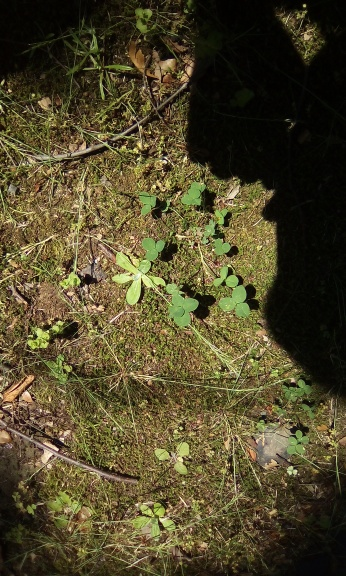4leaf: (167, 292, 199, 326)
